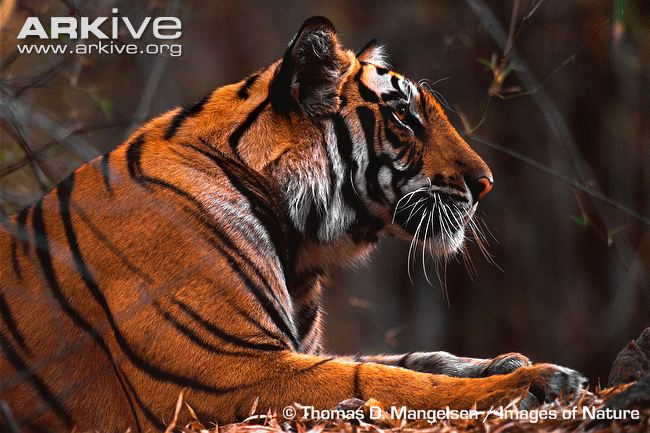Tiger: (50, 16, 604, 423)
